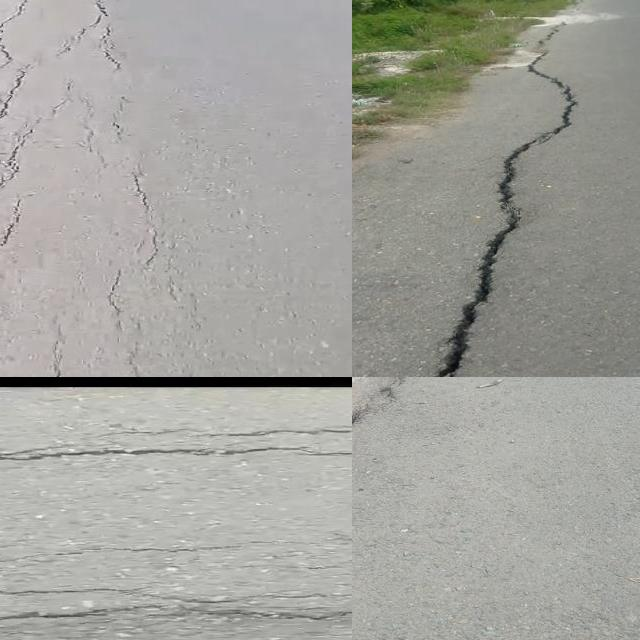Melintang: (0, 418, 352, 482), (0, 587, 352, 640)
Memanjang: (408, 21, 587, 377)
